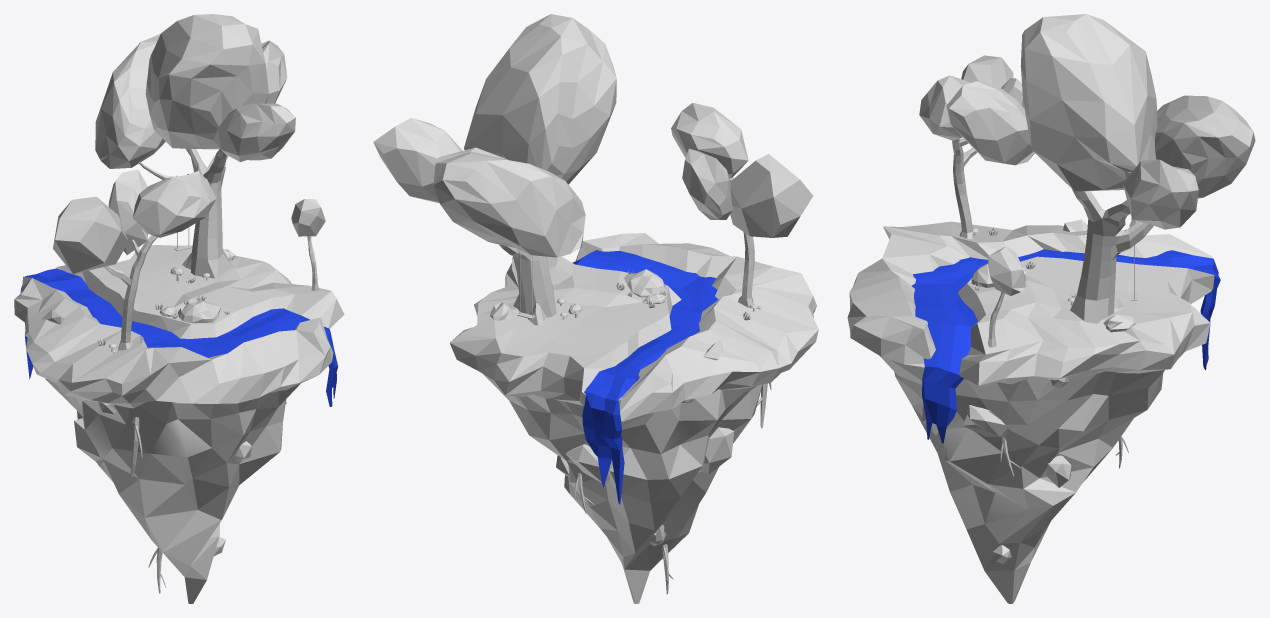
The model's file is IslandAnim.FBX.
The picture shows the model from 3 angles, left to right: view 1: azimuth 30°, elevation 25°; view 2: azimuth 150°, elevation 25°; view 3: azimuth 270°, elevation 25°; orthographic projection. The views are drawn at different scales.
Parts seen in each view (by area): view 1: Tree 1, Object004, Water, Object006, Object002, Object, Object008; view 2: Tree 1, Object004, Object006, Water, Object008, Object; view 3: Tree 1, Object004, Water, Object006, Object, Object002, Object008.
Boxes of the visible parts, x1=… form: Tree 1: x1=14, y1=169, x2=344, y2=603; Object004: x1=145, y1=14, x2=268, y2=149; Water: x1=20, y1=268, x2=338, y2=406; Object006: x1=95, y1=34, x2=165, y2=168; Object002: x1=213, y1=103, x2=295, y2=162; Object: x1=139, y1=148, x2=233, y2=278; Object008: x1=261, y1=40, x2=287, y2=103; Tree 1: x1=450, y1=103, x2=818, y2=603; Object004: x1=464, y1=14, x2=616, y2=184; Object006: x1=433, y1=147, x2=585, y2=257; Water: x1=572, y1=250, x2=718, y2=504; Object008: x1=373, y1=118, x2=462, y2=202; Object: x1=499, y1=244, x2=556, y2=325; Tree 1: x1=847, y1=55, x2=1214, y2=603; Object004: x1=1020, y1=14, x2=1157, y2=191; Water: x1=912, y1=249, x2=1220, y2=443; Object006: x1=1155, y1=95, x2=1255, y2=198; Object: x1=1035, y1=153, x2=1153, y2=323; Object002: x1=946, y1=81, x2=1034, y2=165; Object008: x1=1123, y1=159, x2=1198, y2=229.
Size of the model in its own units: 279 by 463 by 280.
